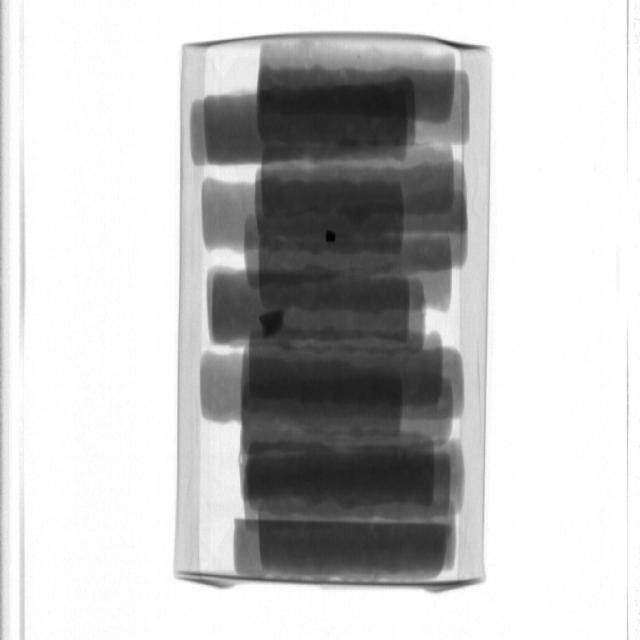ym: (261, 310, 287, 340), (326, 232, 336, 244)
